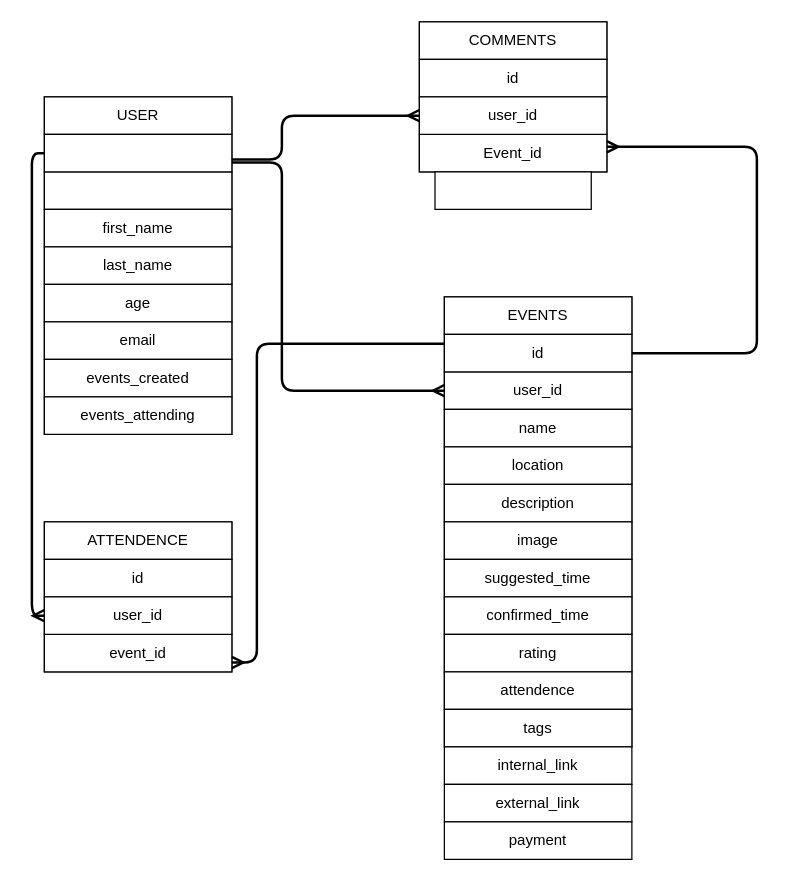
Some shapes in this 789 by 881 pixel diagram are drawn without their labels. The shapes that lost their labels are listed below. From the top down, each one's centre as x and y in pixels, then its label:
At (137,152): "ID (Primary Key)".
At (137,190): "user_name".
At (512,190): "comment/text".
